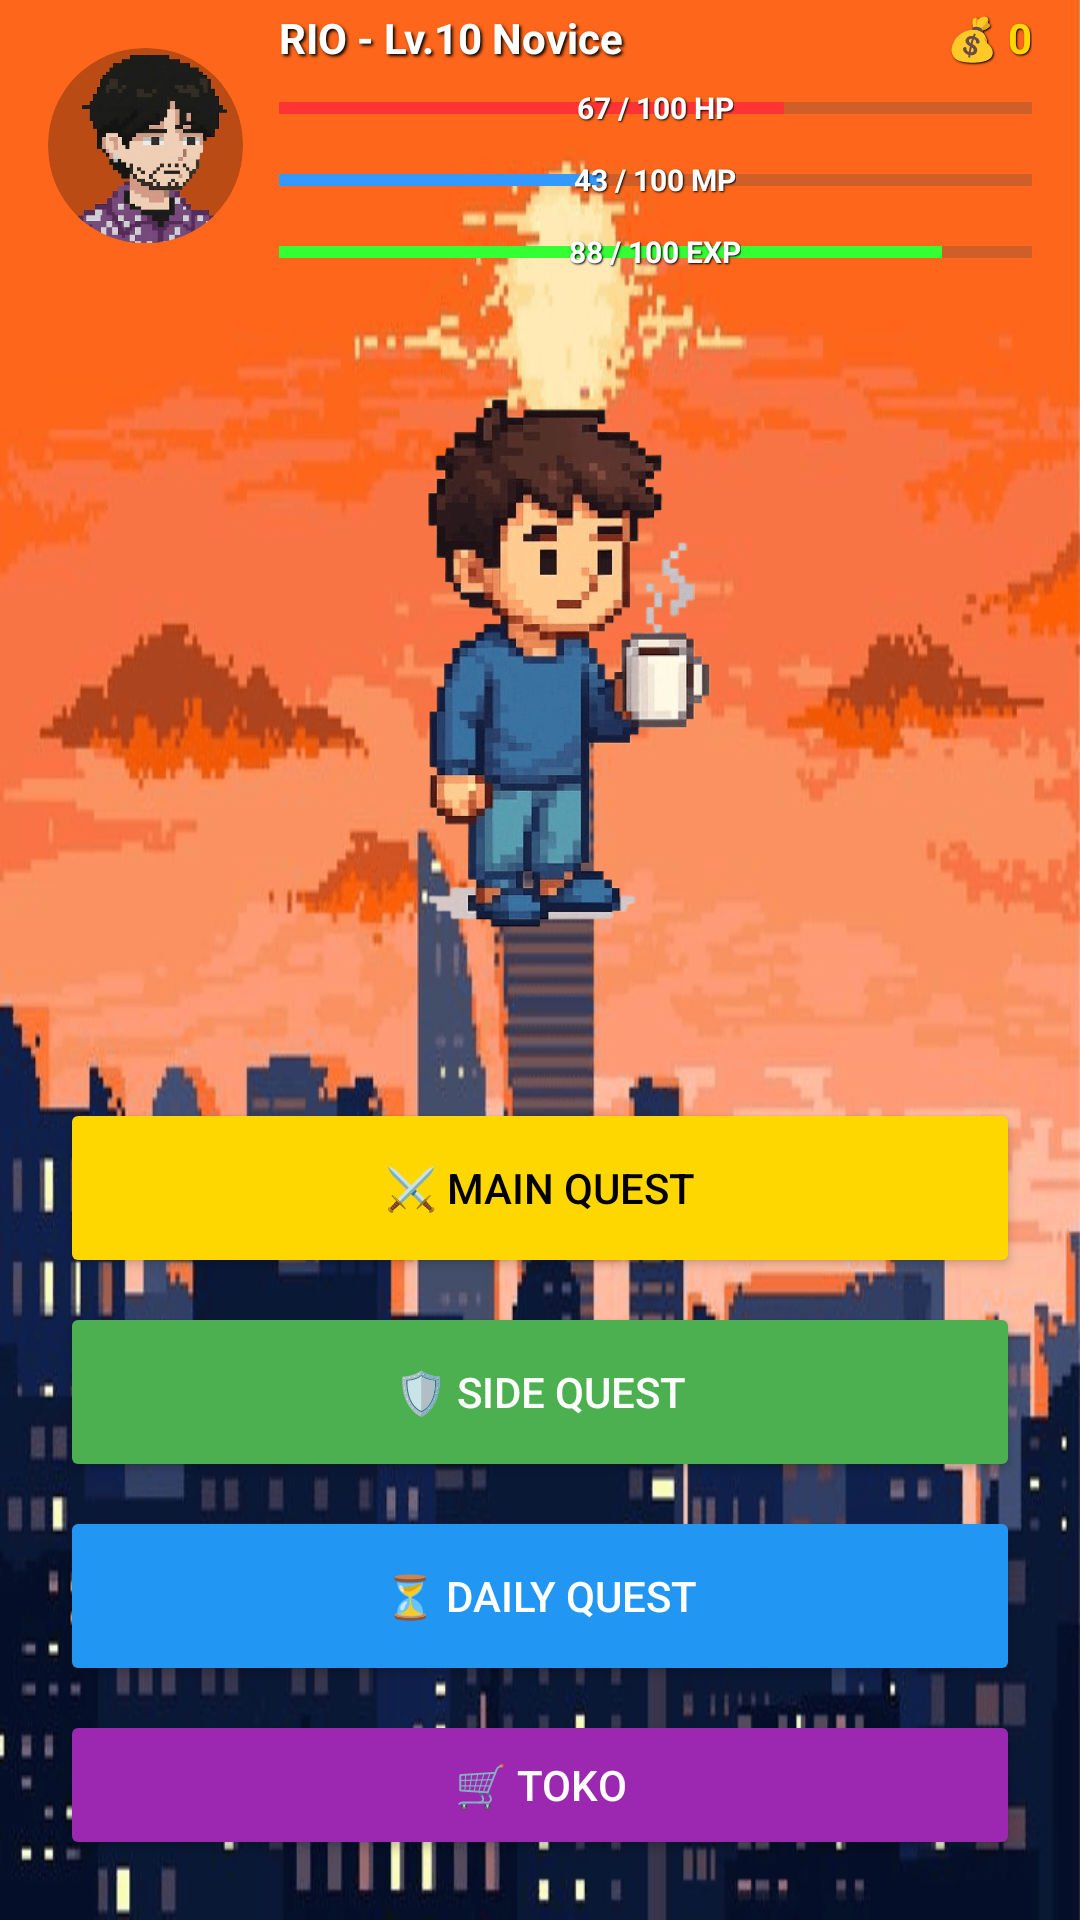

Screen size 1080×1920. Icon name, then its box in pixels as bbox(x1, y1, x2, y2):
kepala: bbox(48, 48, 243, 243)
